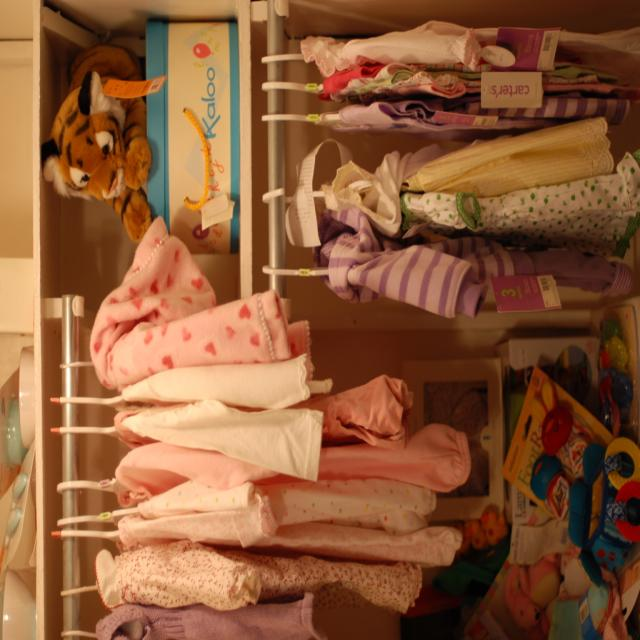Toy: (530, 378, 640, 639), (46, 64, 142, 232), (600, 352, 636, 441), (598, 322, 628, 368), (478, 508, 507, 546), (452, 520, 486, 550)
